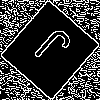J: (25, 24, 74, 76)
